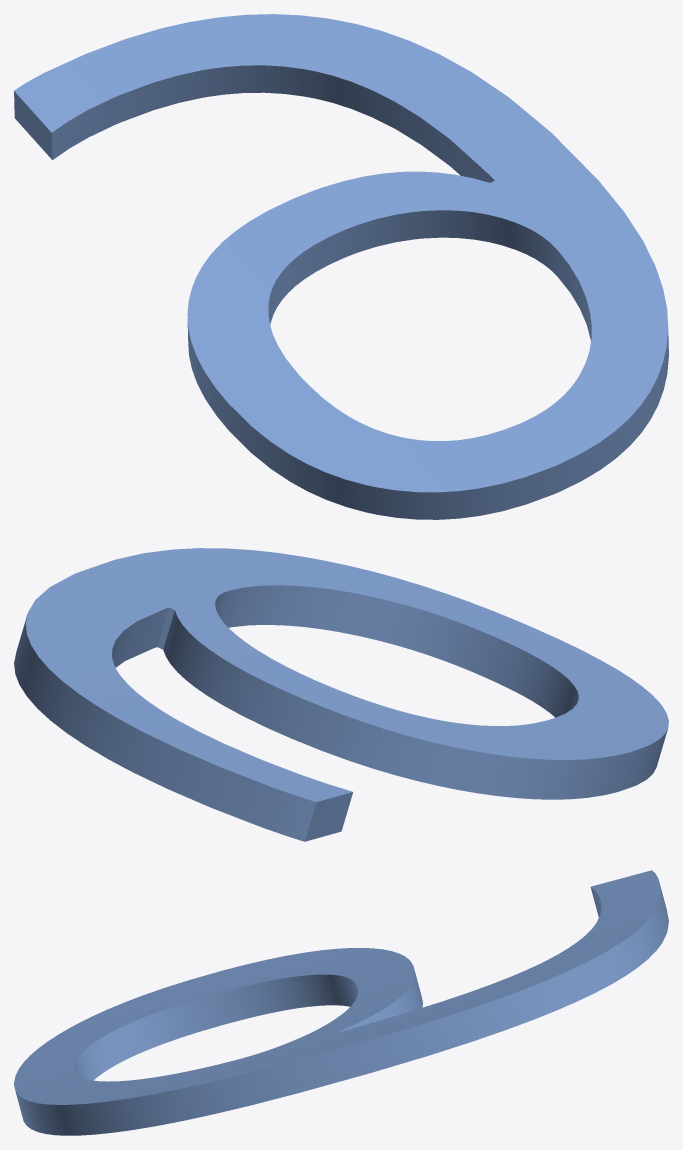
The model's file is Number_6.gltf.
The picture shows the model from 3 angles, top to bottom: view 1: azimuth 30°, elevation 25°; view 2: azimuth 150°, elevation 25°; view 3: azimuth 270°, elevation 25°; orthographic projection. The views are drawn at different scales.
Visible parts, largest first — view 1: Sub_8_Cell_2_1_Number_6; view 2: Sub_8_Cell_2_1_Number_6; view 3: Sub_8_Cell_2_1_Number_6.
Boxes of the visible parts, left/top/right/bottom form: Sub_8_Cell_2_1_Number_6: left=14, top=14, right=668, bottom=519; Sub_8_Cell_2_1_Number_6: left=14, top=548, right=668, bottom=841; Sub_8_Cell_2_1_Number_6: left=14, top=870, right=668, bottom=1135.
Size of the model in its own units: 0.0163 by 0.00864 by 0.0253.
